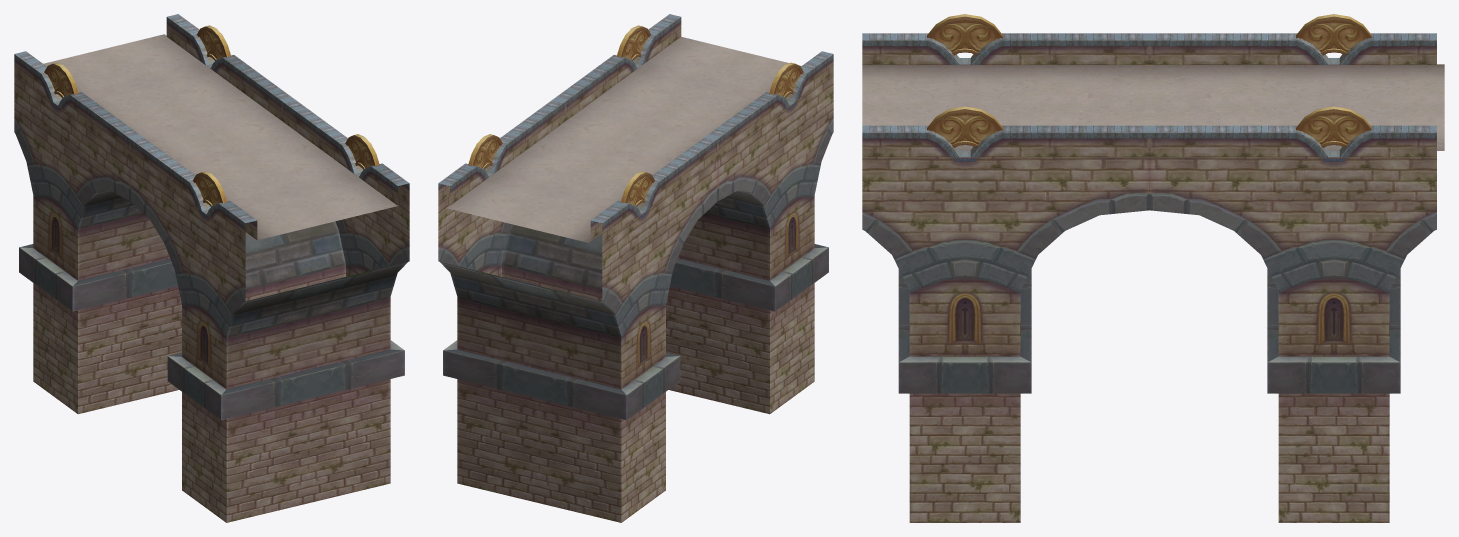
Rendered from cs_lobbynew02_Terrains_jieti01_qiao01.FBX.
The picture shows the model from 3 angles, left to right: view 1: azimuth 30°, elevation 25°; view 2: azimuth 150°, elevation 25°; view 3: azimuth 270°, elevation 25°; orthographic projection. The views are drawn at different scales.
Parts seen in each view (by area): view 1: cs_lobbynew02_Terrains_jieti01_qiao01; view 2: cs_lobbynew02_Terrains_jieti01_qiao01; view 3: cs_lobbynew02_Terrains_jieti01_qiao01.
Boxes of the visible parts, x1,y1,x2,y2 form: cs_lobbynew02_Terrains_jieti01_qiao01: (14, 14, 409, 522); cs_lobbynew02_Terrains_jieti01_qiao01: (438, 14, 833, 522); cs_lobbynew02_Terrains_jieti01_qiao01: (862, 14, 1444, 522).
Size of the model in its own units: 437 by 753 by 966.
